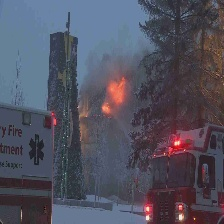fire: (101, 74, 130, 117)
